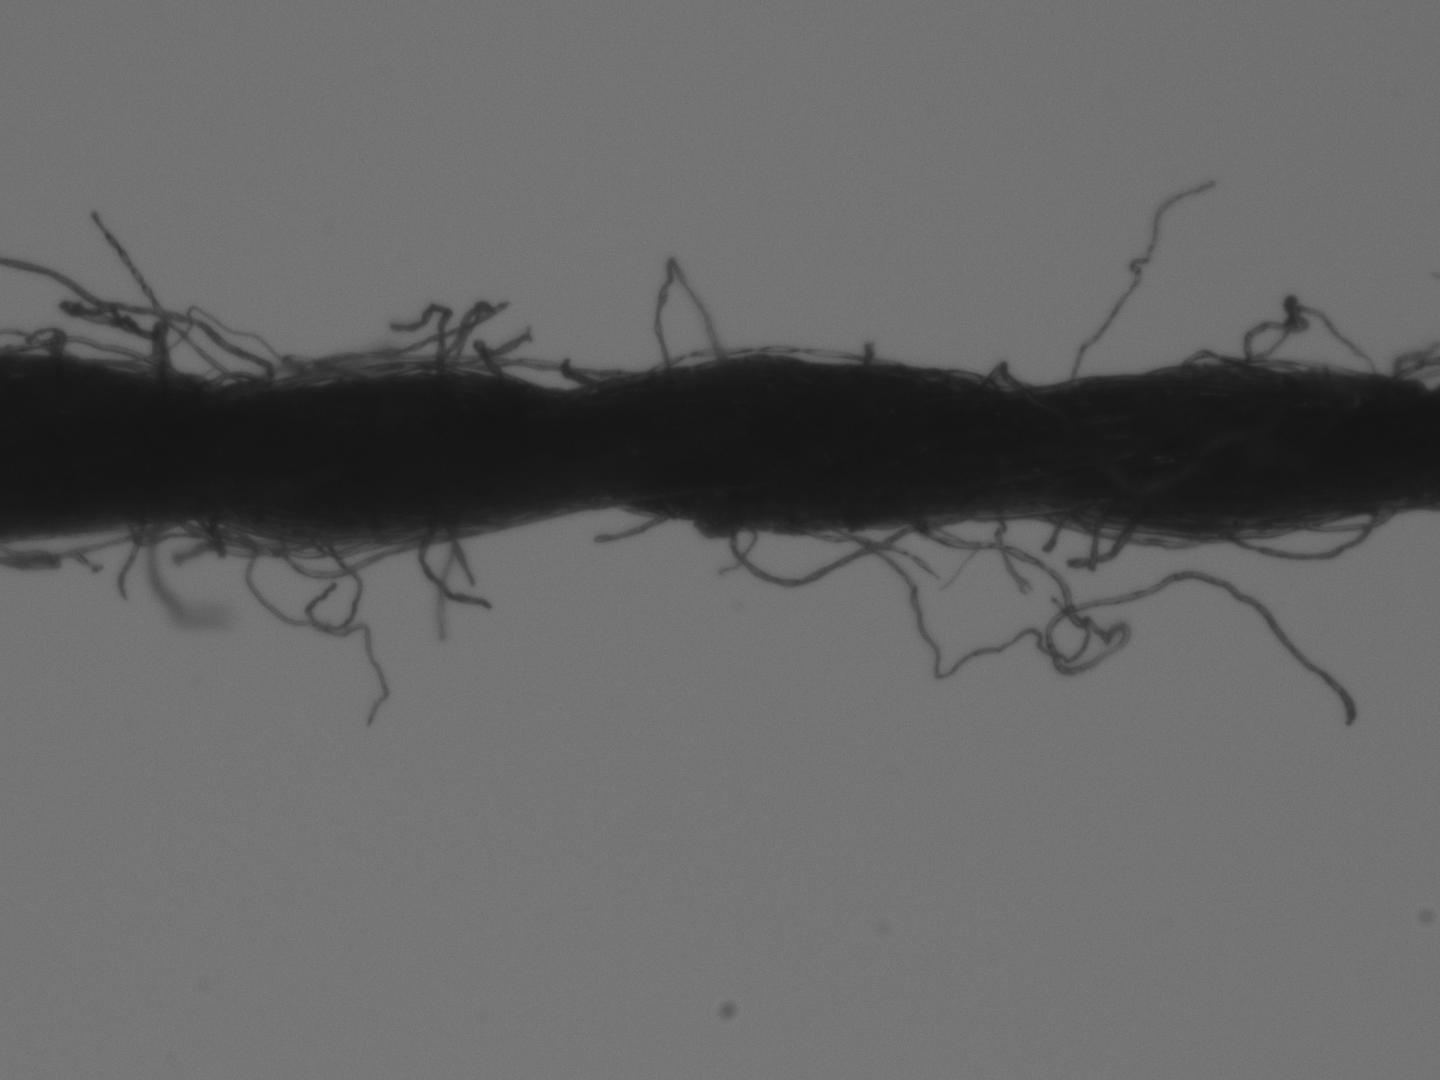loop_fiber: (728, 516, 962, 584), (1214, 504, 1400, 564), (279, 531, 458, 584), (2, 336, 197, 383), (1242, 305, 1374, 372), (653, 256, 727, 377), (263, 362, 508, 388), (1047, 516, 1212, 550), (181, 523, 317, 562), (478, 360, 627, 394), (1145, 352, 1270, 376), (981, 358, 1031, 394)
protruding_fiber: (1068, 177, 1218, 386), (230, 538, 390, 732), (93, 206, 225, 383), (410, 530, 495, 608), (593, 514, 676, 547), (857, 338, 874, 371)
